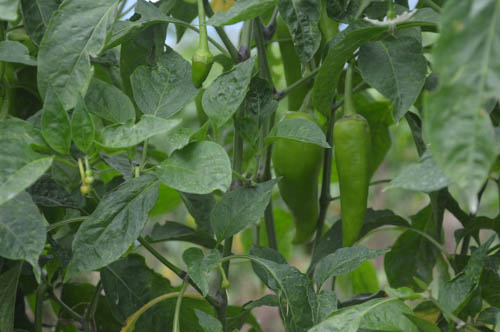ChiliPepper: (271, 113, 325, 252), (331, 116, 370, 250), (189, 52, 216, 93)
